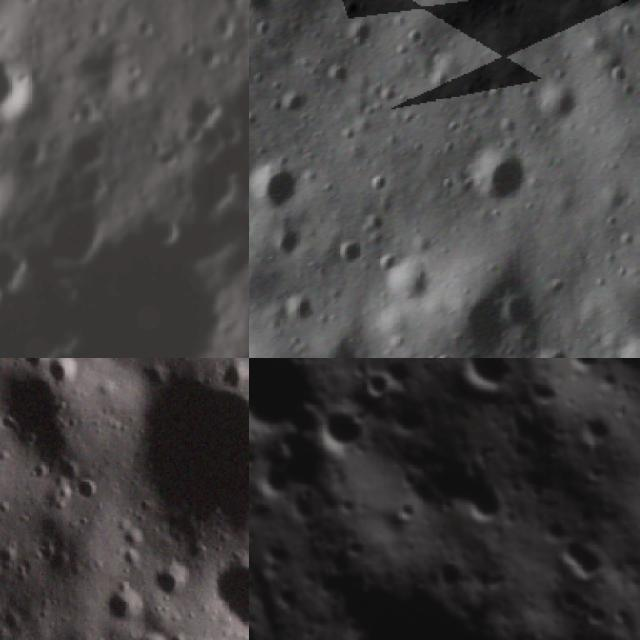crater: (249, 514, 640, 640), (57, 219, 241, 358), (383, 417, 528, 566), (132, 358, 249, 530), (0, 360, 84, 528), (546, 516, 628, 602), (296, 392, 376, 472), (0, 42, 49, 126), (564, 395, 627, 457), (447, 358, 525, 405), (206, 556, 249, 639), (470, 152, 525, 206), (349, 358, 404, 409), (249, 163, 299, 214), (568, 592, 619, 638), (146, 560, 190, 603), (379, 257, 425, 298), (0, 236, 31, 296), (103, 586, 148, 626), (499, 294, 534, 332), (532, 82, 569, 115), (564, 358, 612, 381), (601, 60, 634, 92), (219, 358, 249, 393), (272, 226, 309, 254), (76, 474, 102, 512), (333, 239, 359, 276), (44, 358, 81, 384), (291, 292, 319, 321), (628, 444, 640, 504), (122, 628, 178, 640), (0, 148, 8, 231), (625, 501, 640, 544), (14, 358, 48, 371), (249, 0, 272, 17)
